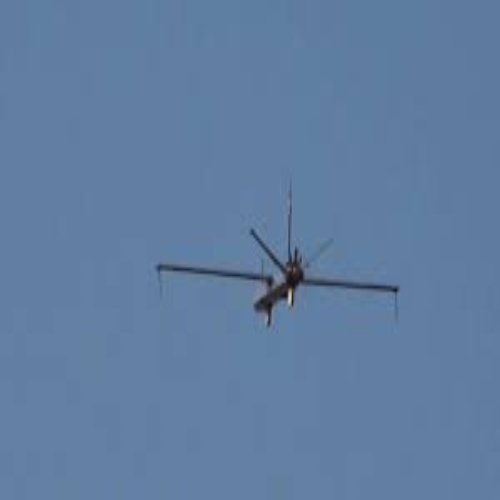uav686: (153, 180, 401, 331)
